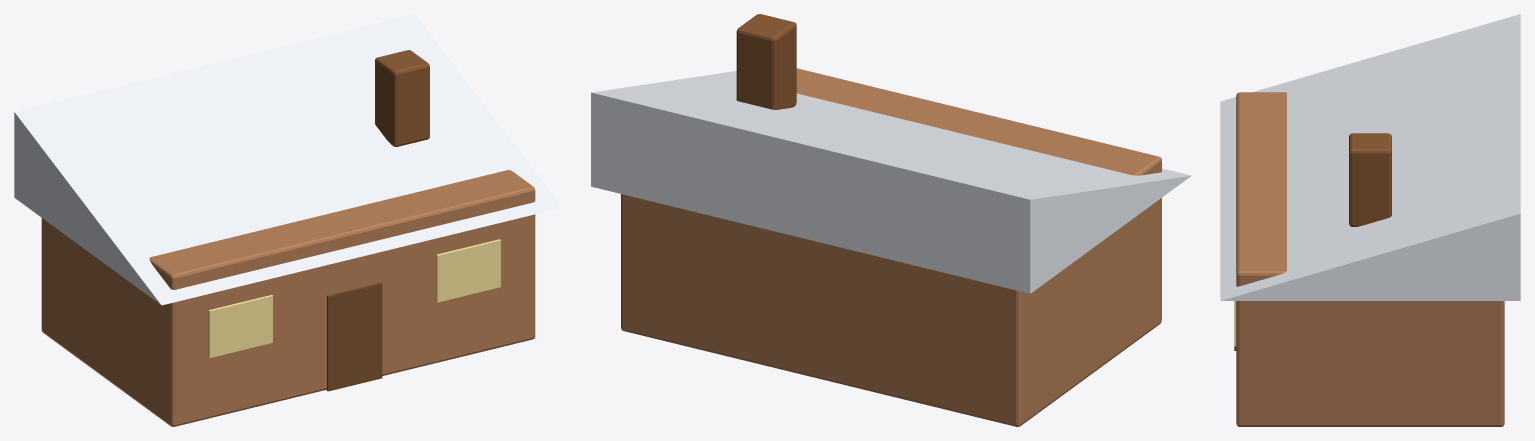
Rendered from Ski_Lodge.fbx.
The picture shows the model from 3 angles, left to right: view 1: azimuth 30°, elevation 25°; view 2: azimuth 150°, elevation 25°; view 3: azimuth 270°, elevation 25°; orthographic projection. The views are drawn at different scales.
Visible parts, largest first — view 1: Lodge; view 2: Lodge; view 3: Lodge.
Boxes of the visible parts, left/top/right/bottom form: Lodge: left=14, top=14, right=562, bottom=426; Lodge: left=591, top=14, right=1191, bottom=426; Lodge: left=1220, top=14, right=1520, bottom=426.
Bounding box in the file's own units: 8.8 × 5.2 × 5.6.
